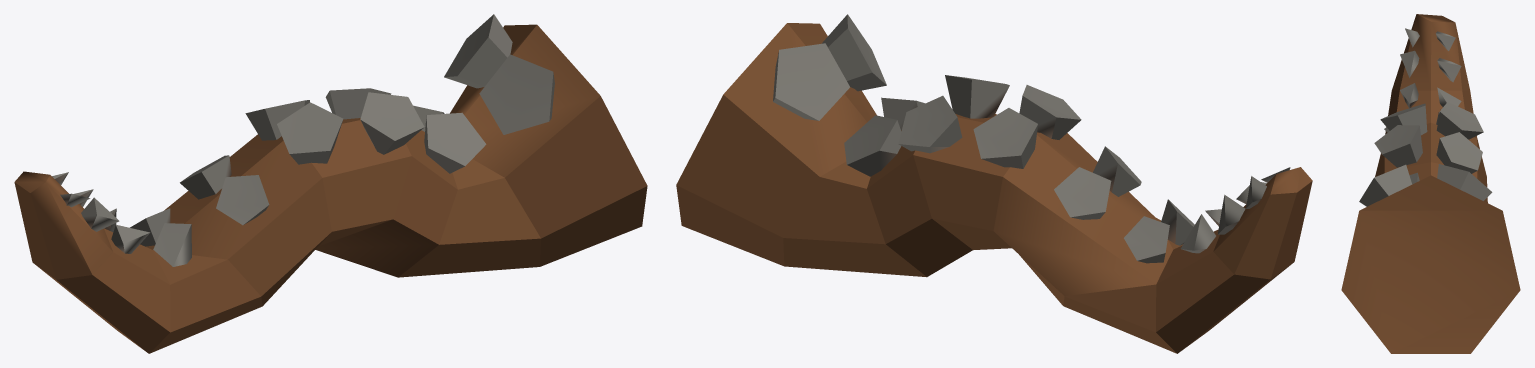
Rendered from cc0-tentacle-lod1.glb.
The picture shows the model from 3 angles, left to right: view 1: azimuth 30°, elevation 25°; view 2: azimuth 150°, elevation 25°; view 3: azimuth 270°, elevation 25°; orthographic projection. The views are drawn at different scales.
Parts seen in each view (by area): view 1: part_0; view 2: part_0; view 3: part_0.
Part boxes in pixels (x1=…): part_0: x1=14, y1=14, x2=647, y2=353; part_0: x1=676, y1=14, x2=1312, y2=353; part_0: x1=1341, y1=14, x2=1520, y2=353.
Bounding box in the file's own units: 0.762 × 0.2757 × 0.2673.
